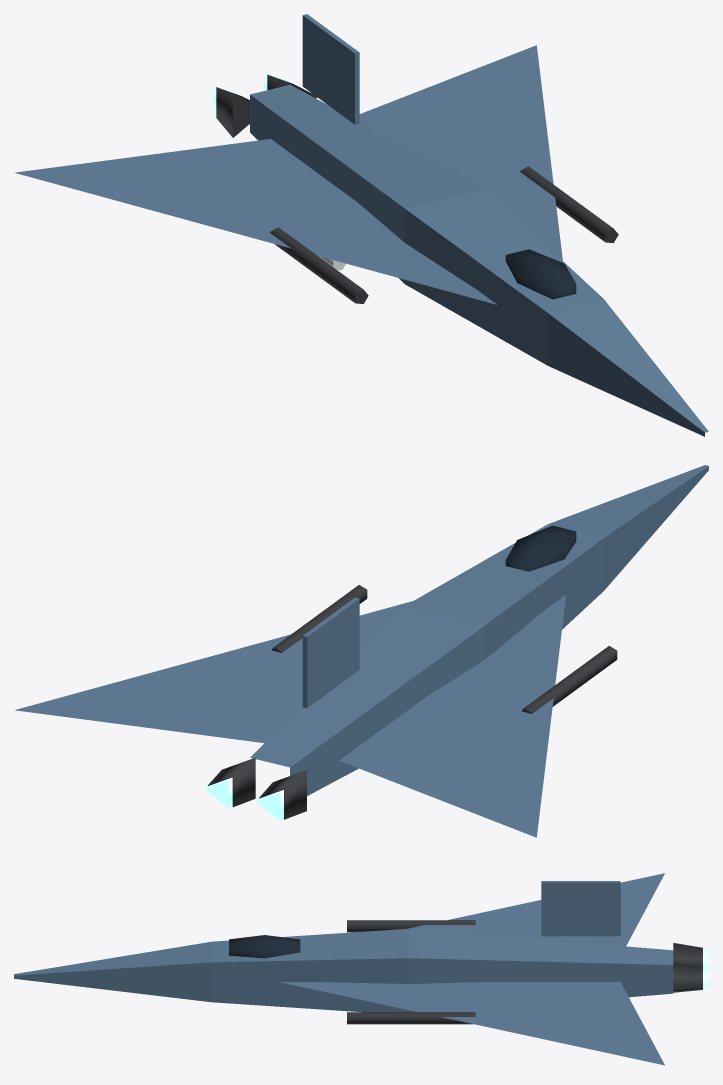
File: space_ship_interceptor_mk5_lod2.glb
3 renders of one model, top to bottom at view 1: azimuth 30°, elevation 25°; view 2: azimuth 150°, elevation 25°; view 3: azimuth 270°, elevation 25°, orthographic. The views are drawn at different scales.
Visible parts, largest first — view 1: body, gun_r, gun_l, engine_0; view 2: body, engine_1, engine_0, gun_r, gun_l; view 3: body, gun_l, gun_r, engine_1, engine_0.
Boxes of the visible parts, bbox=[...] form: body: bbox=[14, 14, 708, 436]; gun_r: bbox=[270, 227, 368, 304]; gun_l: bbox=[520, 166, 618, 243]; engine_0: bbox=[213, 85, 249, 137]; body: bbox=[14, 465, 708, 837]; engine_1: bbox=[205, 757, 255, 808]; engine_0: bbox=[256, 770, 306, 820]; gun_r: bbox=[521, 646, 617, 713]; gun_l: bbox=[271, 585, 367, 652]; body: bbox=[14, 873, 673, 1065]; gun_l: bbox=[347, 1012, 475, 1024]; gun_r: bbox=[347, 920, 475, 932]; engine_1: bbox=[673, 961, 708, 992]; engine_0: bbox=[673, 943, 708, 967].
Size of the model in its own units: 9.2 by 2.65 by 14.04.
